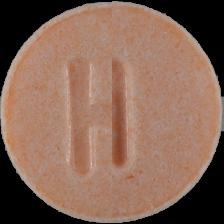63187-553: (0, 0, 224, 224)
